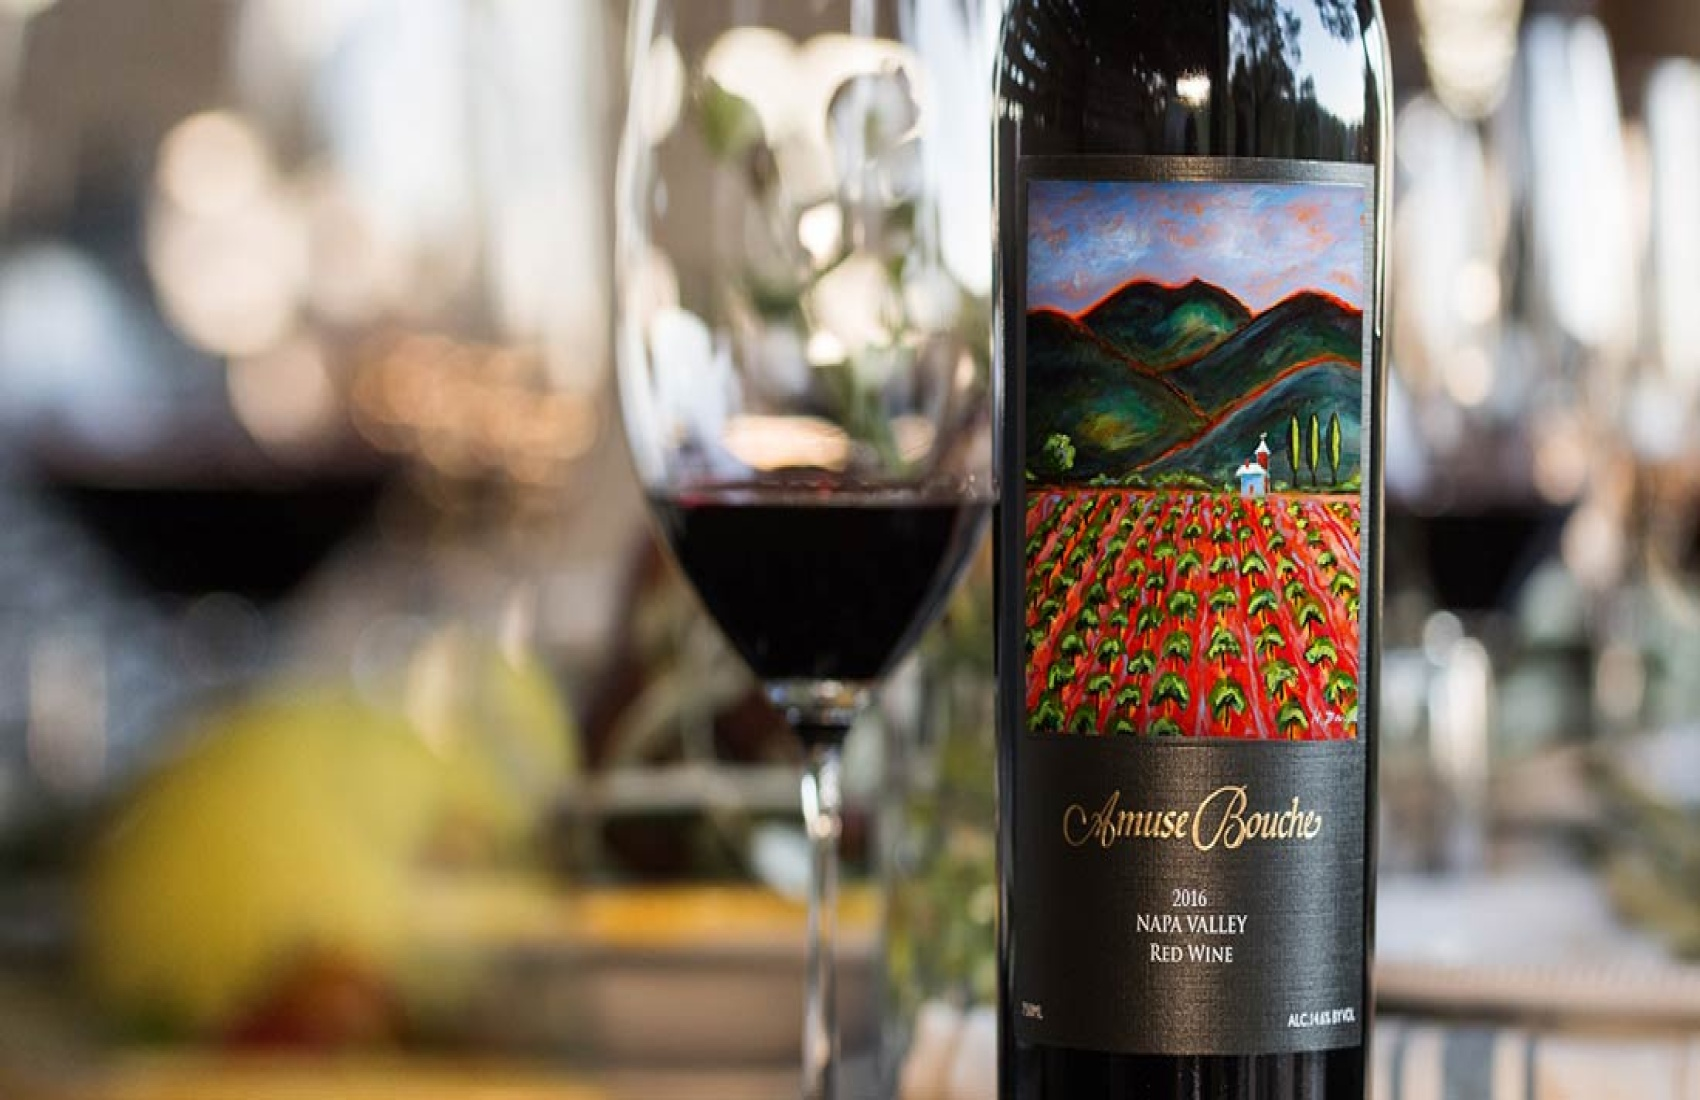wine: (985, 9, 1377, 1100)
